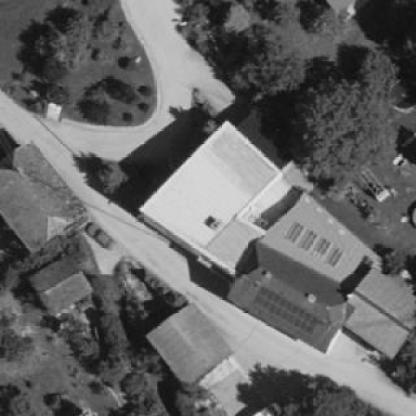solar-pv-panel: (252, 287, 319, 334)
